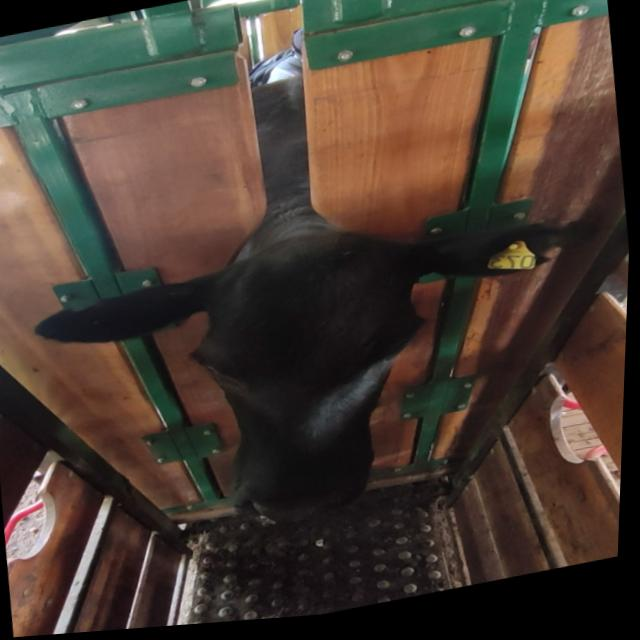cowFace: (178, 218, 449, 547)
